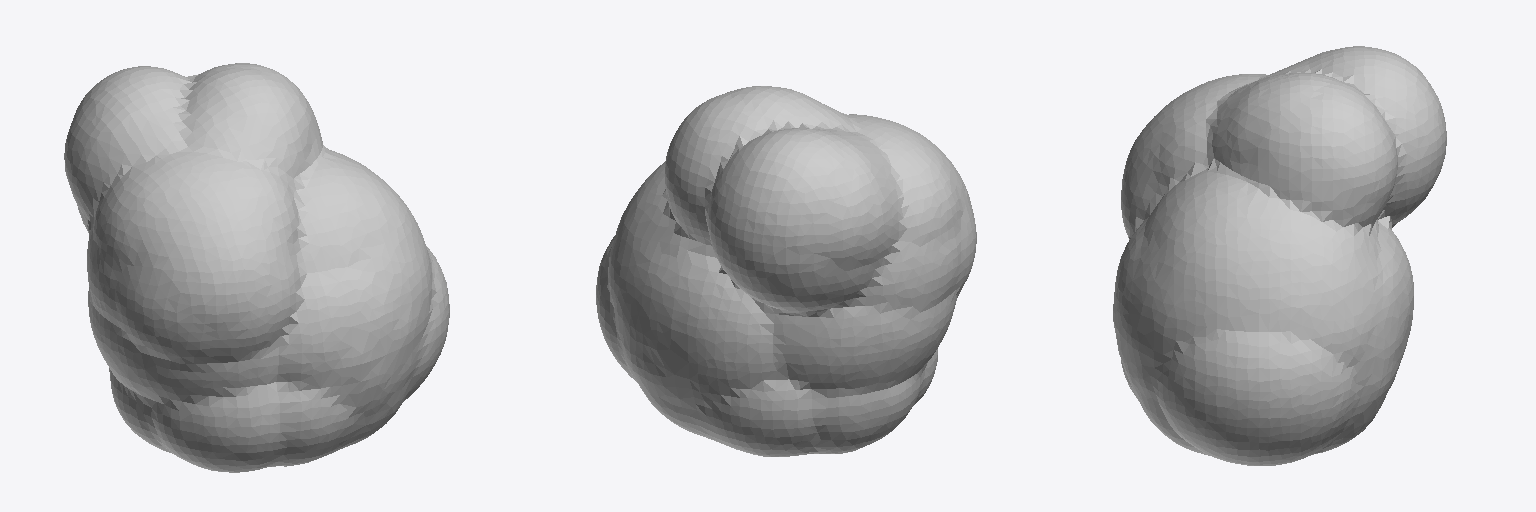
File: bunny_out.obj
3 renders of one model, left to right at view 1: azimuth 30°, elevation 25°; view 2: azimuth 150°, elevation 25°; view 3: azimuth 270°, elevation 25°, orthographic.
Size of the model in its own units: 1.27 by 1.25 by 1.09.